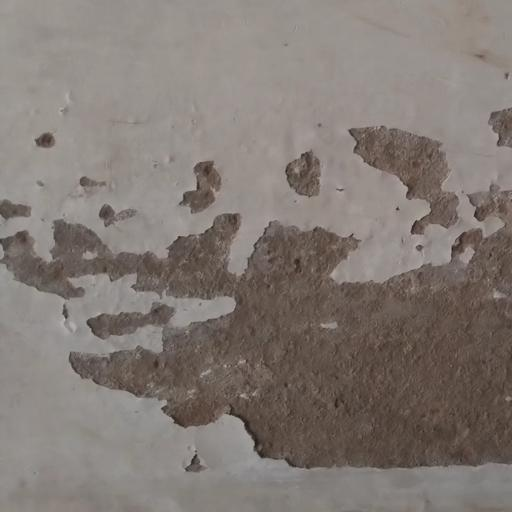peeling: (0, 125, 512, 473), (345, 100, 468, 251), (488, 97, 512, 160)
